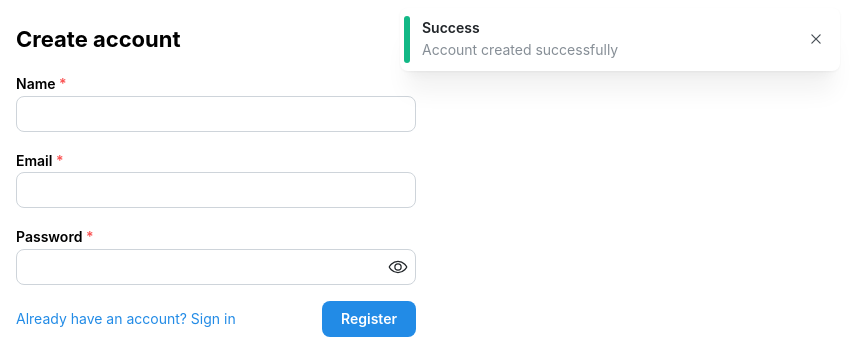
it: shows the API error and clears the password when registration fails
This screenshot has width=852, height=354.
Type "  Ada Lovelace " into the field labelled "Name *" at {"x": 216, "y": 114}, box [16,96,416,132]
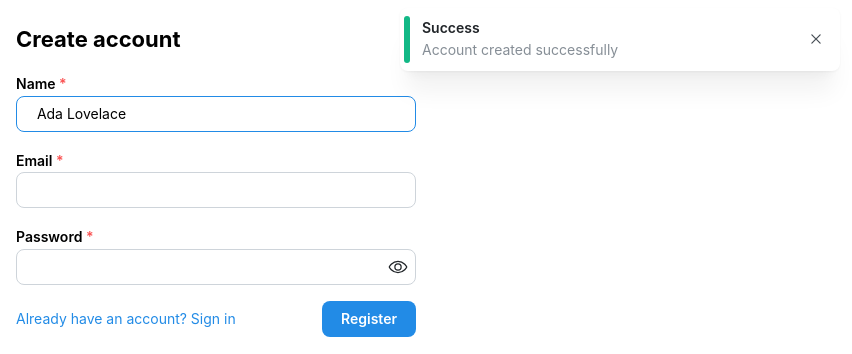
Type " ada@example.com " into the field labelled "Email *" at {"x": 216, "y": 190}, box [16,172,416,208]
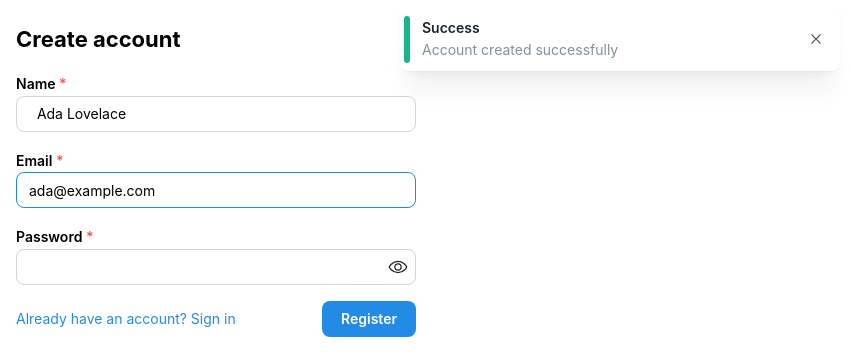
Type "s3cret-pass" into the password field labelled "Password *" at {"x": 216, "y": 267}, box [17,250,415,284]
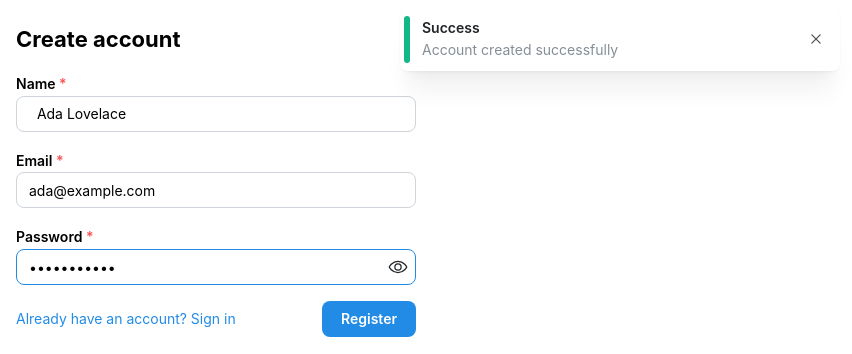
Click the button "Register" at {"x": 369, "y": 319}, box [322,301,416,337]
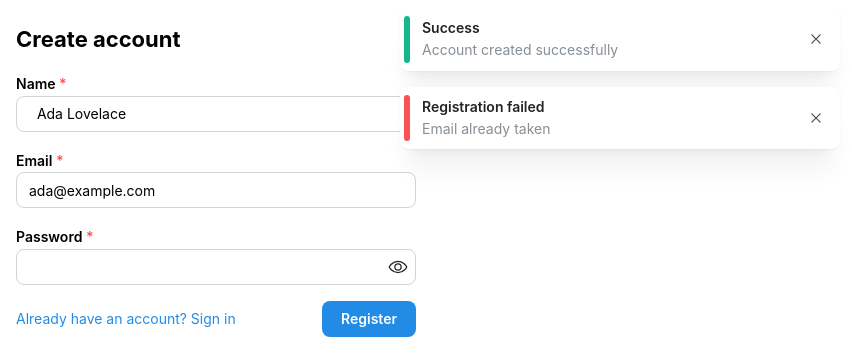
Result: the text "Email already taken" is shown at [422,120,550,137]
Result: the text "Registration failed" is shown at [422,98,545,115]
Result: the password field labelled "Password *" is empty at [17,250,415,284]
